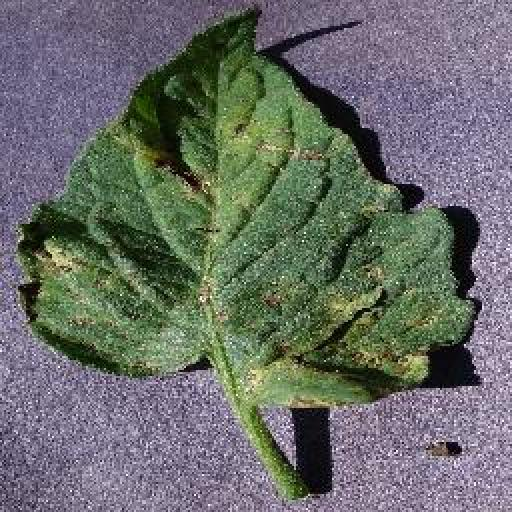disease_tomato: (17, 8, 480, 415)
